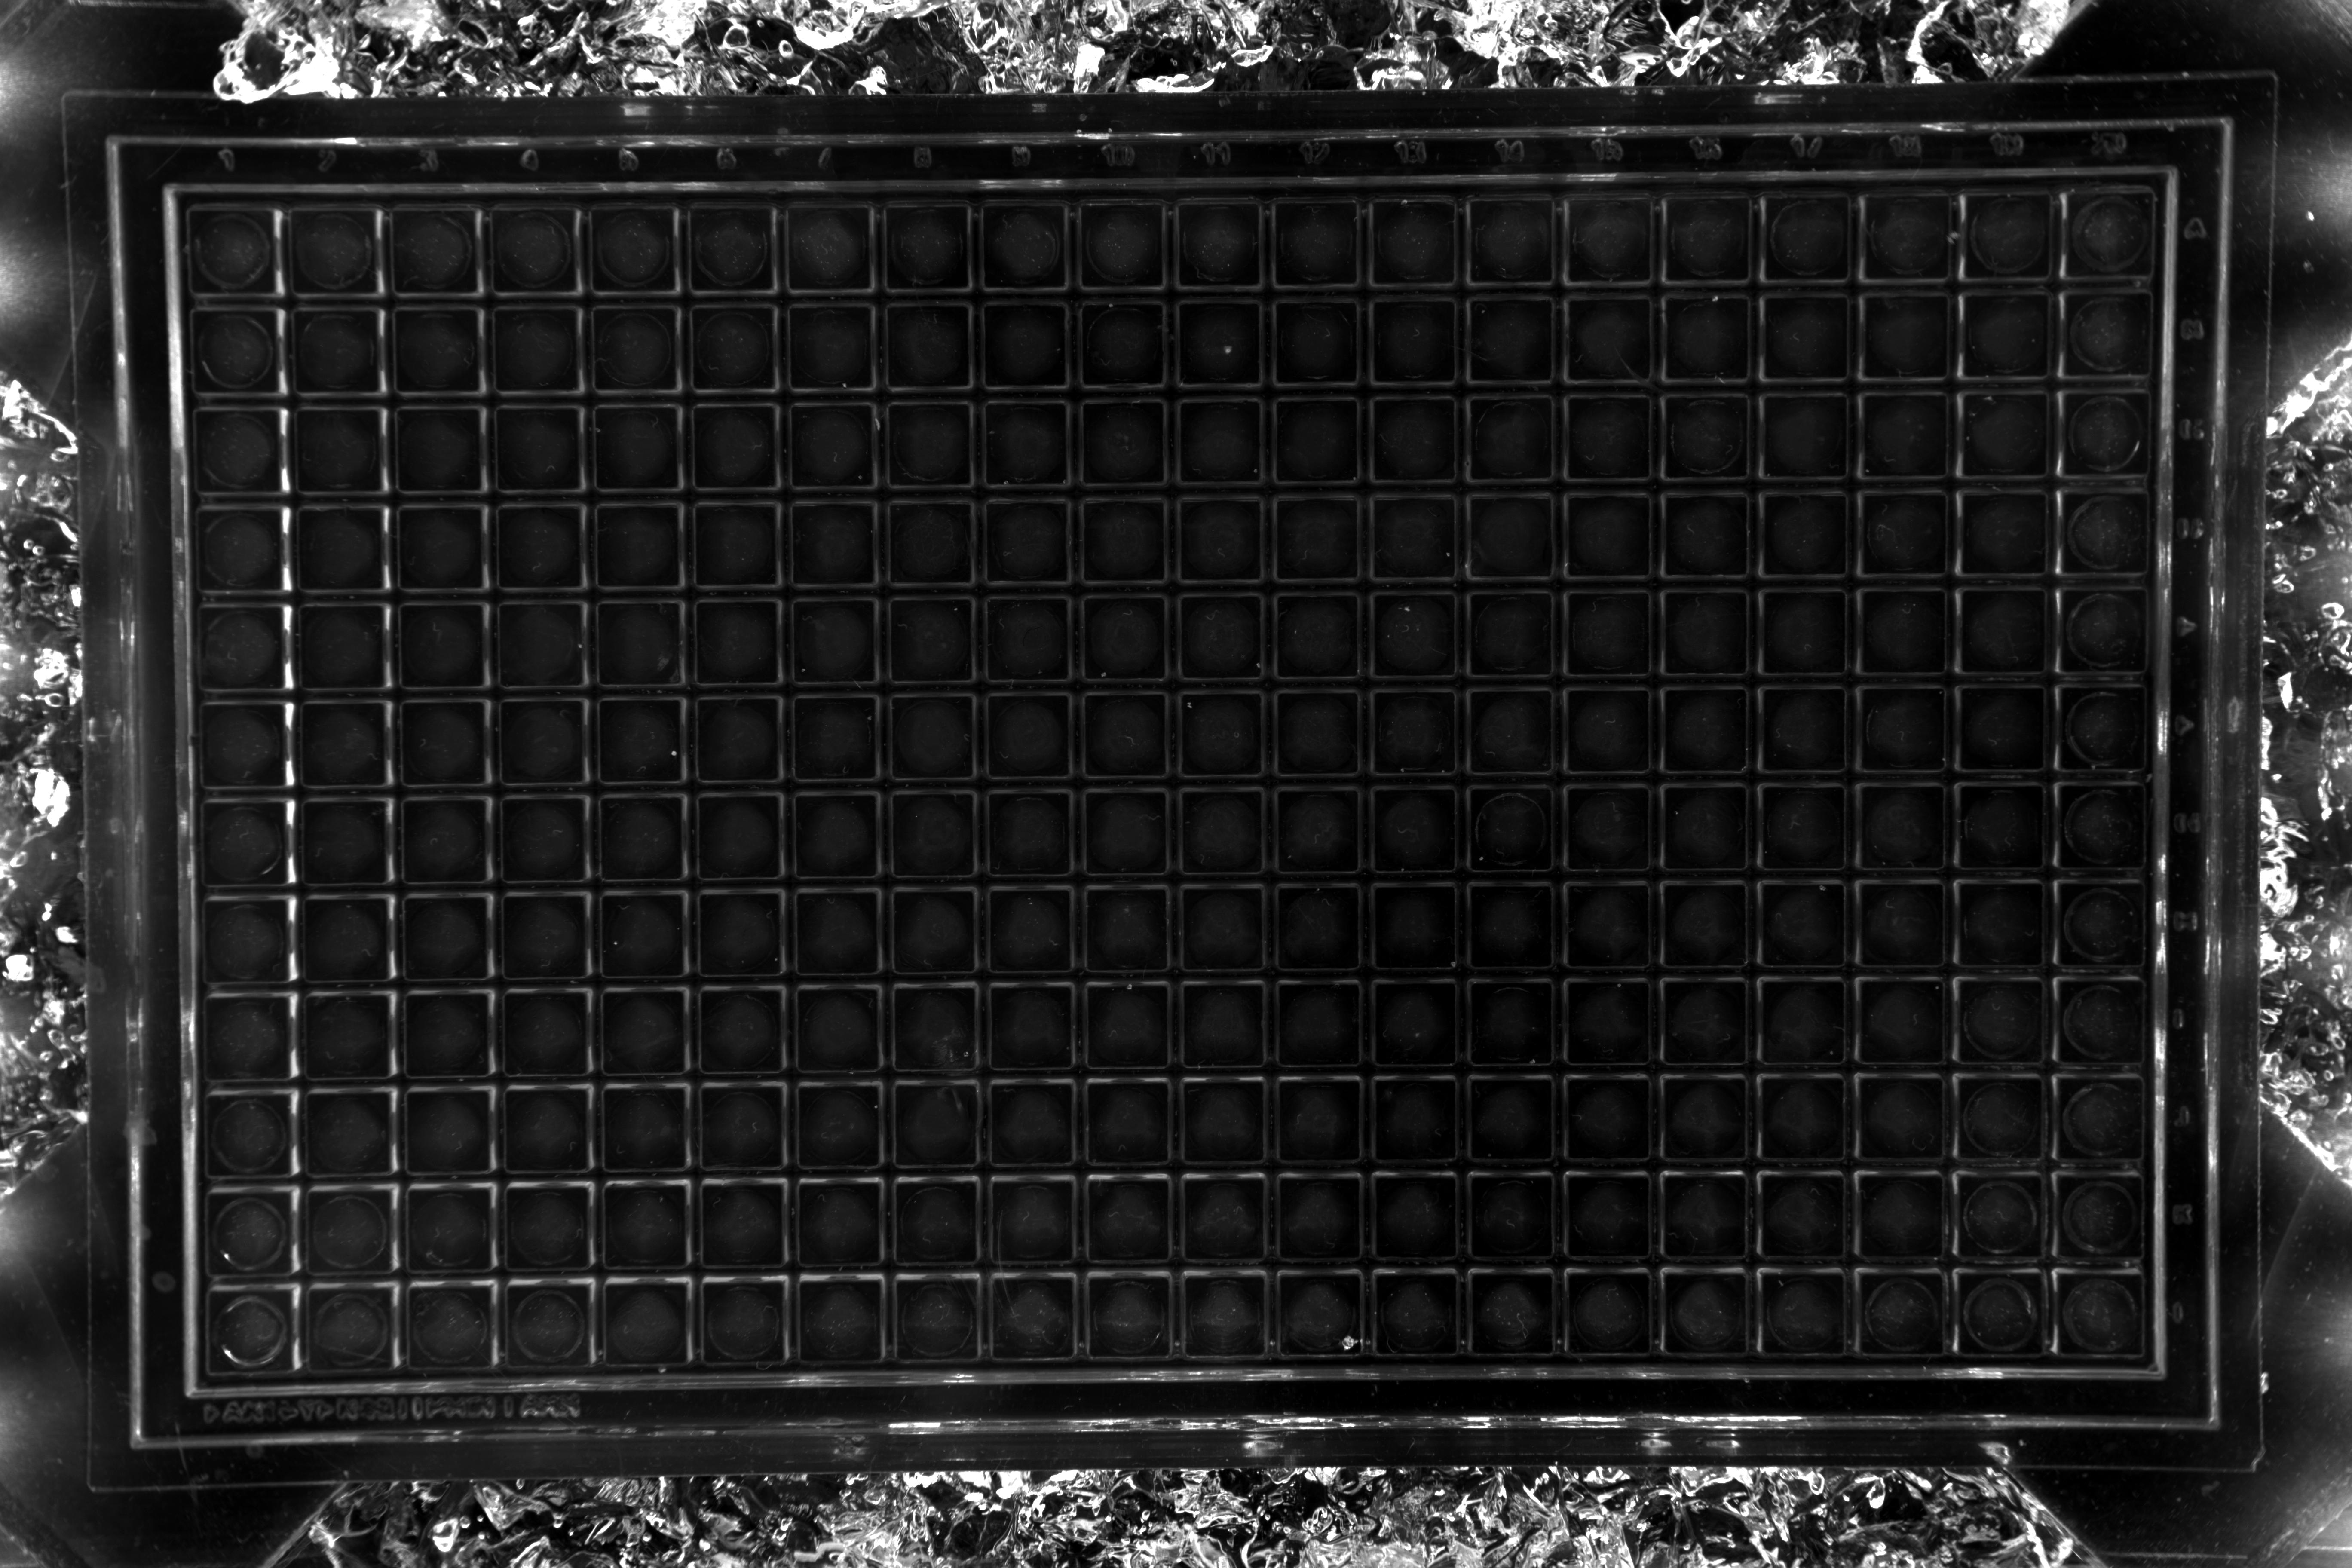WM_well: (299, 633, 388, 721), (395, 535, 485, 623), (399, 828, 488, 915), (789, 1018, 878, 1106), (1176, 1209, 1263, 1298), (289, 138, 376, 226), (294, 338, 381, 425), (303, 1022, 390, 1109), (390, 238, 478, 325), (392, 338, 479, 425), (399, 731, 486, 819), (887, 1211, 975, 1298), (1080, 920, 1167, 1008), (1274, 240, 1361, 327), (1372, 238, 1459, 325), (1465, 1113, 1552, 1200), (1466, 920, 1554, 1008), (1563, 1017, 1650, 1104), (1563, 920, 1650, 1008), (1564, 628, 1652, 716), (1659, 1211, 1746, 1298), (1662, 822, 1750, 910), (1858, 1017, 1946, 1104), (1956, 1115, 2044, 1202)
